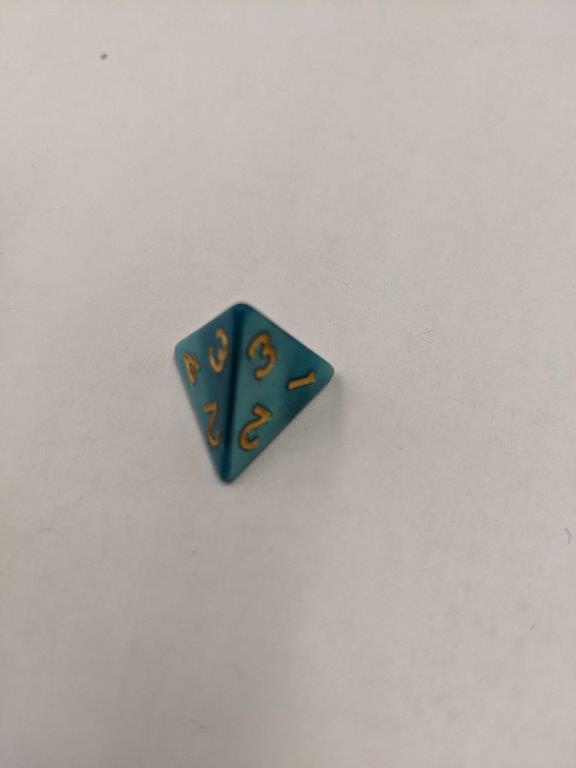d4-3: (170, 299, 336, 486)
